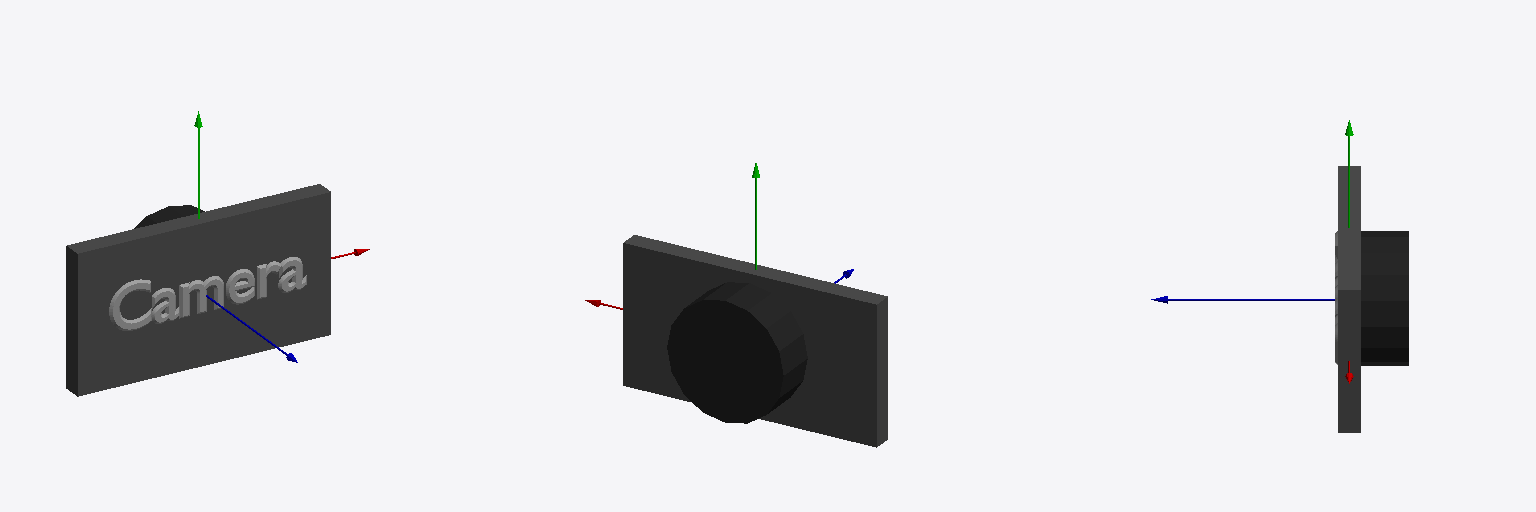
Rendered from camera.obj.
The picture shows the model from 3 angles: view 1: azimuth 30°, elevation 25°; view 2: azimuth 150°, elevation 25°; view 3: azimuth 270°, elevation 25°; orthographic projection.
Visible parts, largest first — view 1: Camera_body, Camera, Camera_lens; view 2: Camera_body, Camera_lens; view 3: Camera_lens, Camera_body.
Part boxes in pixels (x1,y1,x2,y2): Camera_body: (66,184,330,396); Camera: (109,257,306,330); Camera_lens: (134,205,204,228); Camera_body: (623,235,887,447); Camera_lens: (667,282,807,423); Camera_lens: (1361,231,1408,365); Camera_body: (1338,166,1360,432).
Size of the model in its own units: 2.35 by 1.89 by 1.77.